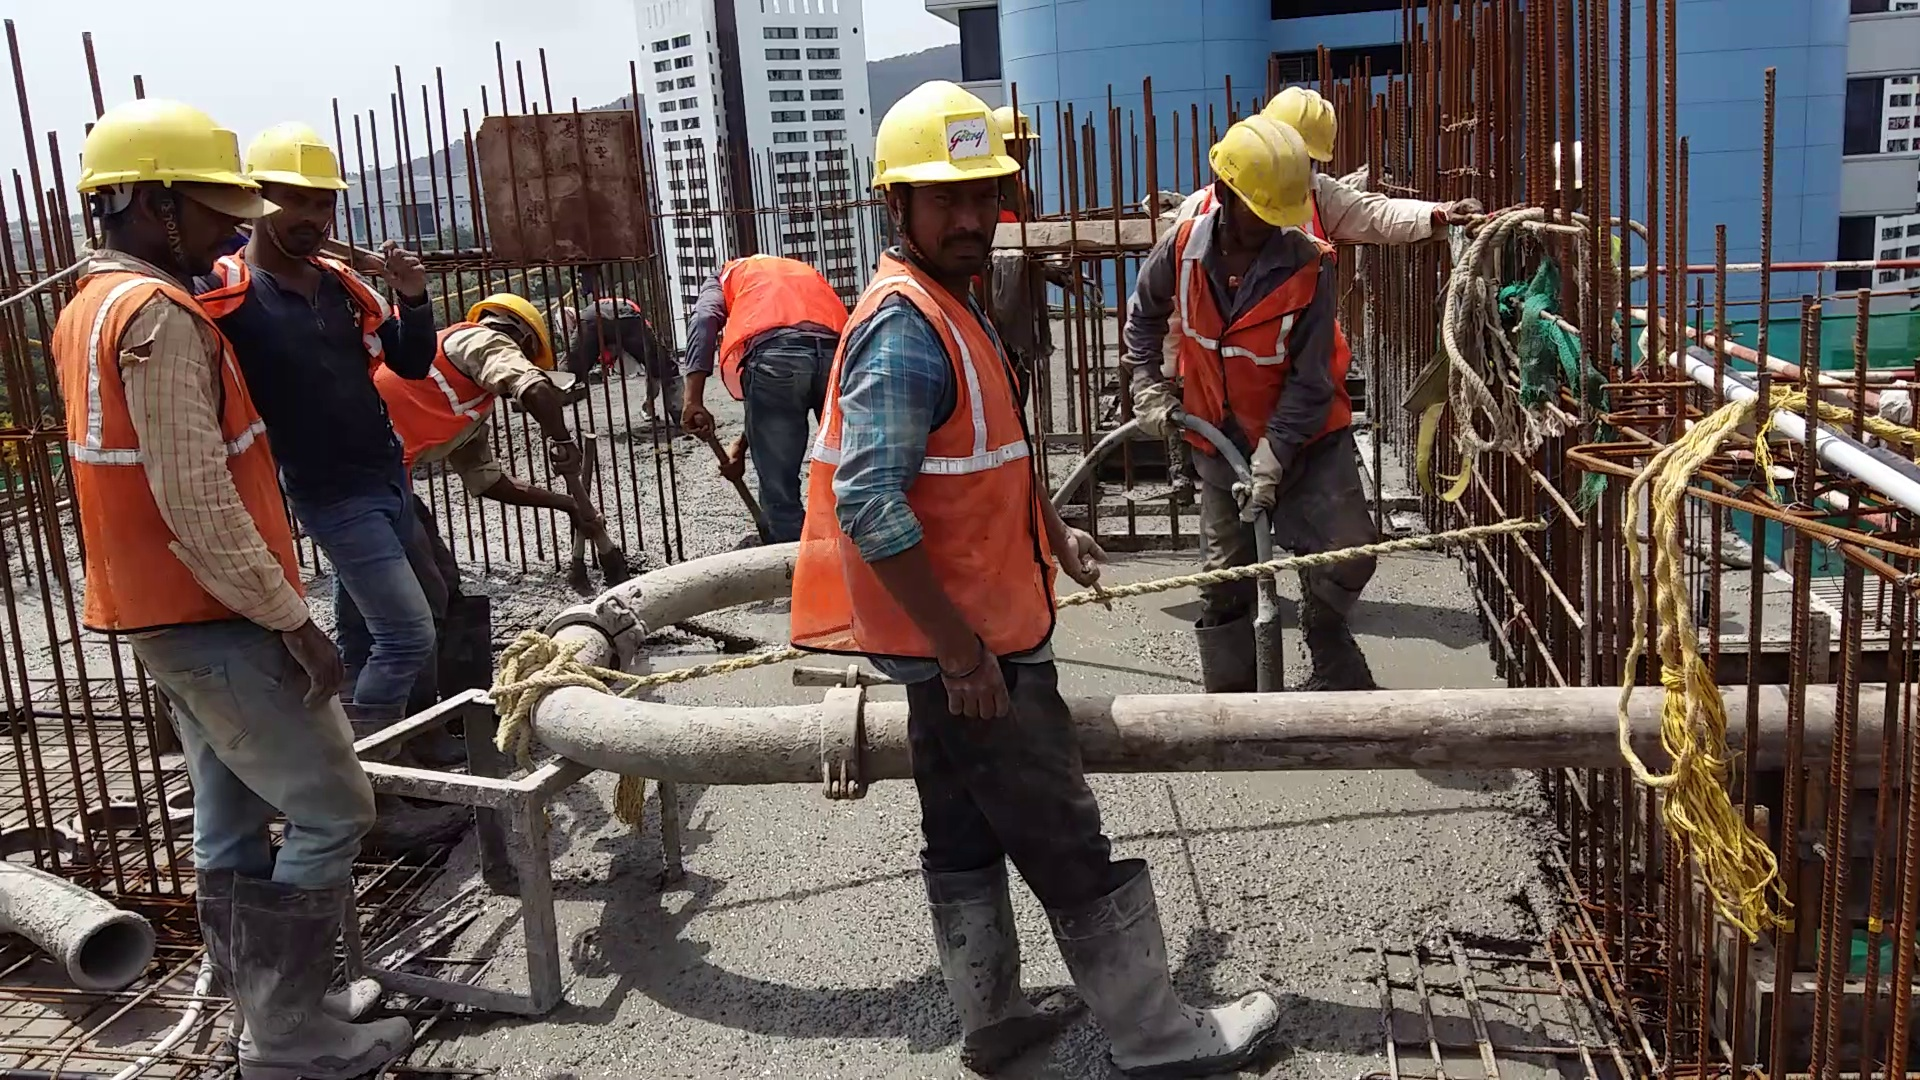NoJacket: (269, 135, 353, 484)
SAFE: (829, 82, 1046, 655), (65, 98, 244, 622), (1172, 116, 1335, 447)
